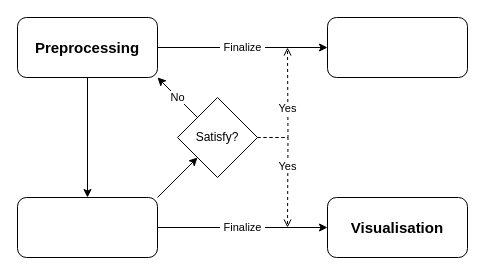
Some shapes in this 485 by 275 pixel diagram are drawn without their labels. The centre of each missing label's shape, as x and y in pixels:
"Analysis" goes at (x=87, y=227).
"Documenting Preprocessing Steps" goes at (x=397, y=47).
